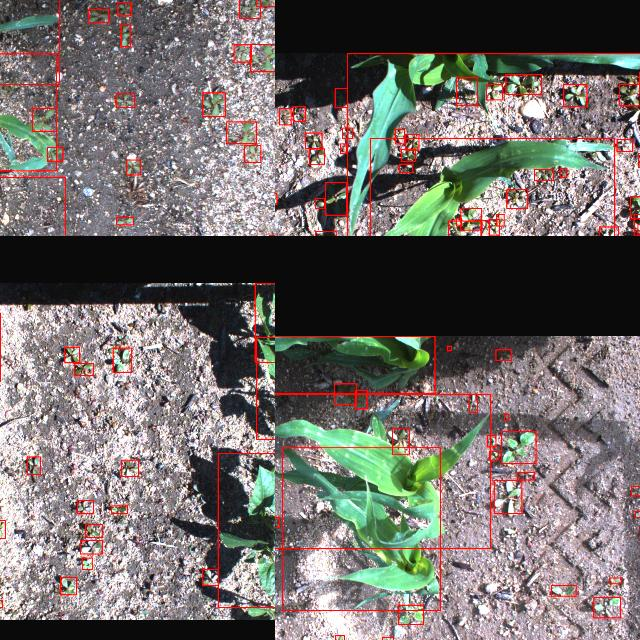crop: (347, 52, 640, 236), (275, 393, 490, 548), (282, 448, 440, 610), (369, 138, 614, 236), (275, 335, 434, 392), (217, 453, 275, 607), (0, 53, 55, 170), (0, 0, 59, 83), (255, 337, 275, 439), (254, 282, 275, 361)
weed: (500, 431, 536, 464), (493, 480, 521, 514), (324, 182, 346, 215), (505, 74, 541, 94), (249, 44, 275, 71), (226, 122, 256, 144), (456, 77, 476, 105), (592, 598, 620, 618), (202, 92, 224, 116), (32, 108, 56, 130), (447, 221, 480, 236), (618, 84, 640, 106), (564, 84, 586, 106), (112, 348, 132, 372), (398, 605, 422, 625), (461, 208, 482, 230), (334, 384, 356, 404), (392, 428, 408, 454), (238, 0, 259, 18), (507, 190, 528, 208), (80, 540, 102, 554), (233, 44, 251, 61), (304, 132, 322, 148), (120, 460, 138, 476), (88, 8, 108, 22), (334, 88, 348, 108), (243, 146, 260, 162), (550, 586, 576, 596), (486, 84, 502, 100), (308, 148, 324, 164), (60, 578, 76, 594), (201, 569, 217, 585), (115, 93, 133, 107), (26, 456, 40, 474), (629, 196, 640, 218), (354, 389, 366, 408), (46, 147, 62, 161), (400, 148, 416, 162), (85, 524, 101, 538), (64, 346, 78, 362), (120, 24, 130, 46), (74, 363, 92, 375), (77, 501, 93, 514), (117, 2, 131, 16), (126, 160, 140, 174), (616, 139, 632, 151), (406, 134, 418, 150), (278, 108, 290, 124), (598, 226, 617, 236), (534, 170, 552, 180), (292, 106, 304, 120), (394, 128, 404, 144), (488, 219, 498, 235), (633, 214, 640, 235), (479, 220, 488, 236), (469, 394, 477, 412), (516, 472, 534, 480), (496, 350, 510, 360), (116, 217, 132, 225), (111, 506, 127, 514), (255, 0, 275, 6), (81, 558, 91, 570), (398, 164, 412, 172), (314, 231, 335, 236), (342, 128, 352, 138), (314, 198, 324, 208), (486, 436, 496, 446), (488, 450, 498, 460), (495, 214, 503, 226), (631, 486, 640, 496), (0, 520, 4, 538), (609, 578, 621, 584), (560, 168, 566, 178), (340, 143, 346, 153), (334, 635, 343, 640), (637, 153, 640, 167), (634, 511, 640, 517), (381, 637, 392, 640), (456, 218, 460, 226), (275, 517, 278, 527), (504, 414, 508, 420), (446, 346, 450, 350)
